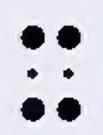one_cell_alphabet_ito: (20, 25, 81, 122)
